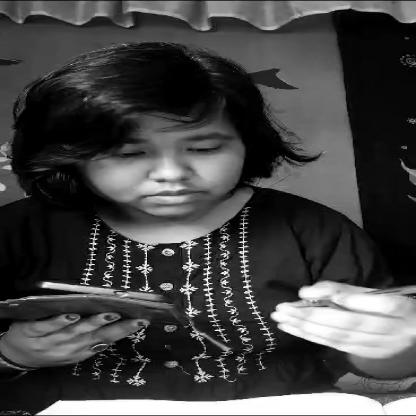Normal: (75, 101, 261, 222)
